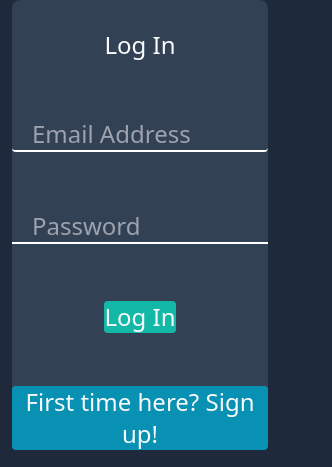
Test: Button functionality › incorrect username/password causes warning to render
Expected: the text "Incorrect username or password!" is not shown
# generate user event
Click the button "Log In": (140, 317) [104,301,176,333]
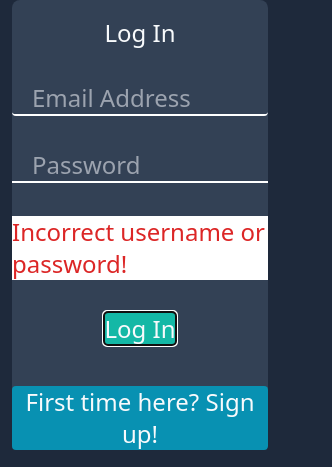
Result: the text "Incorrect username or password!" is shown at [12,216,268,280]
